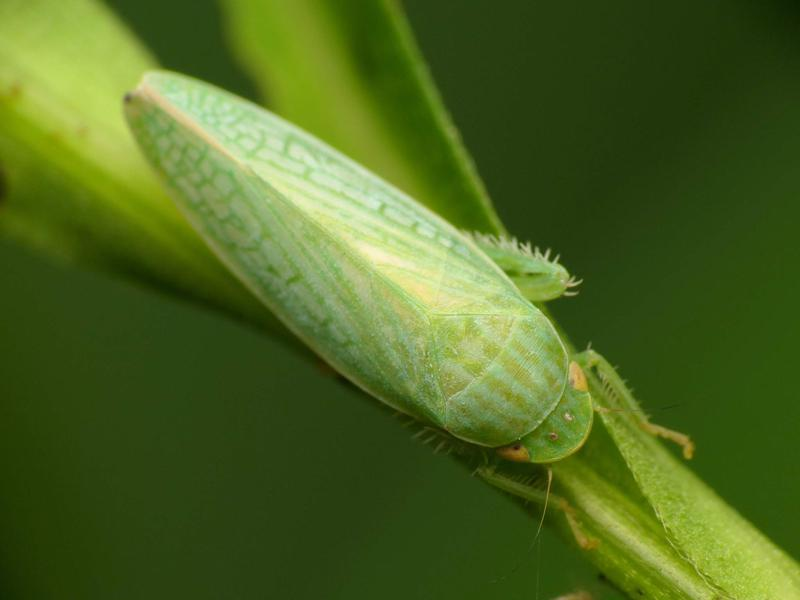Brown_plant_leafhopper: (107, 57, 607, 471)
